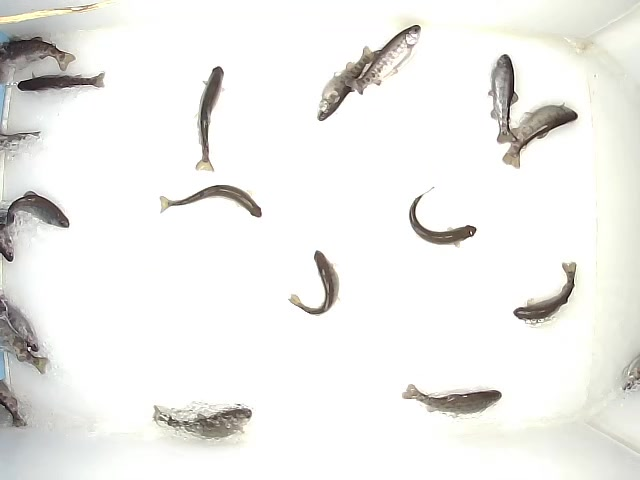fish: (344, 24, 423, 95), (501, 101, 580, 171), (316, 45, 382, 122), (408, 185, 478, 250), (512, 261, 578, 323), (151, 401, 252, 441), (286, 248, 341, 318), (158, 184, 263, 219), (194, 64, 226, 174), (401, 383, 503, 417), (487, 53, 520, 145), (6, 190, 71, 231), (1, 37, 77, 72), (16, 70, 106, 95)
